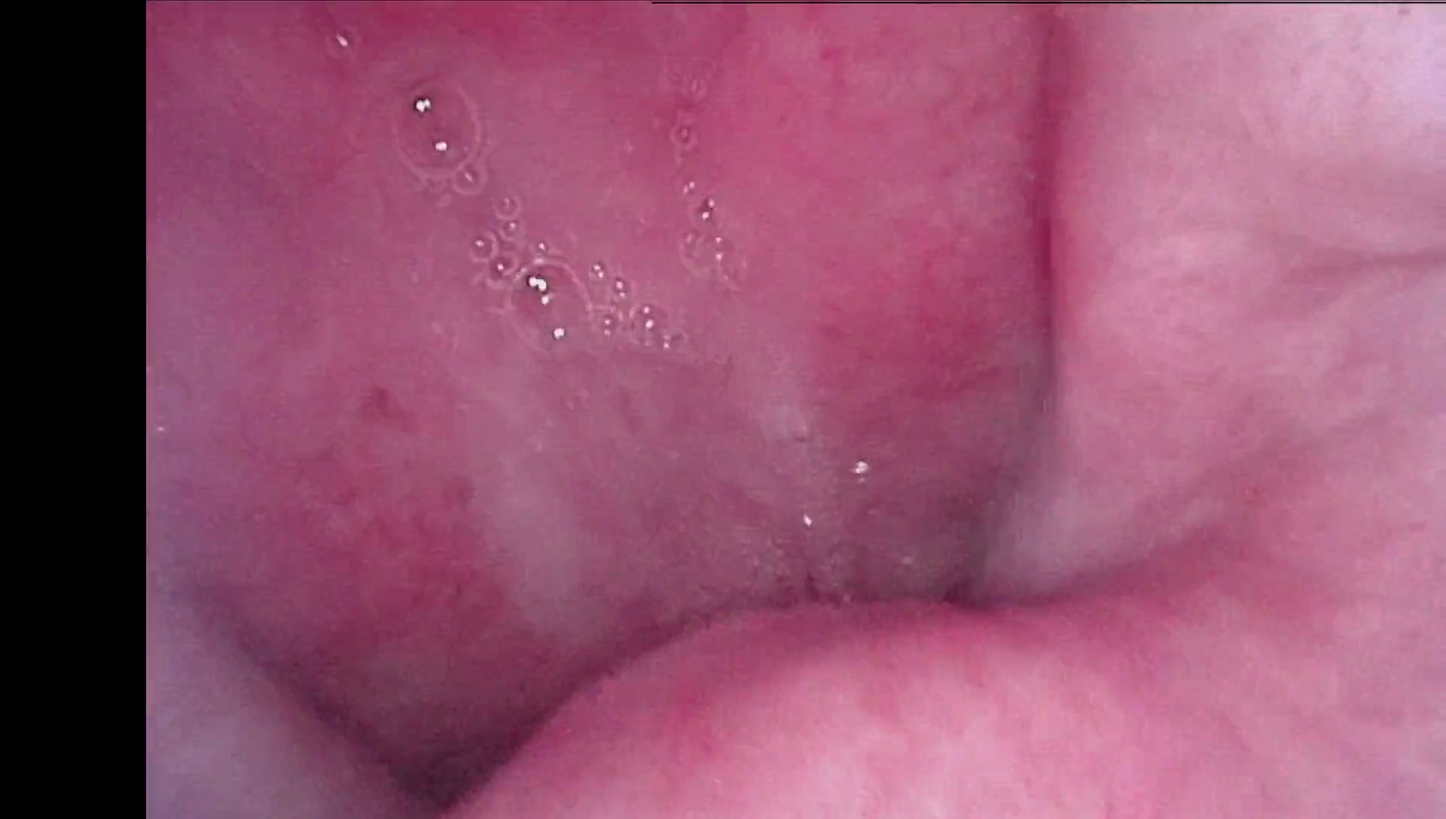close_wall: (1116, 0, 1446, 275)
next: (244, 645, 620, 819)
